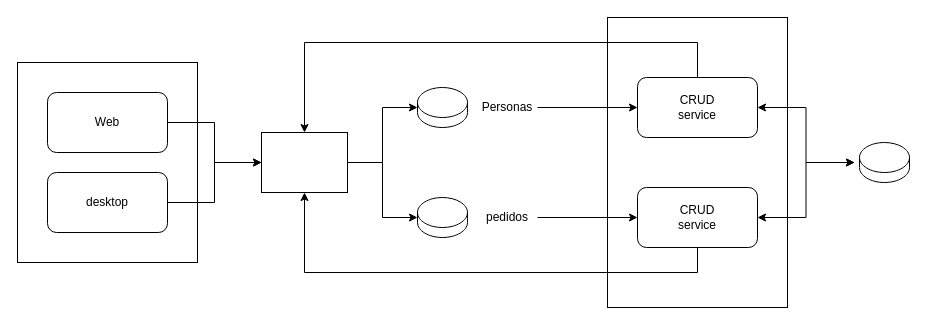
Image size: 932x325. Some labels were removed from this diagram. The box of each missing label's shape, as (x1, y1, x2, y2) in pixels:
DB: (858, 142, 910, 182)
event router: (260, 132, 348, 192)
